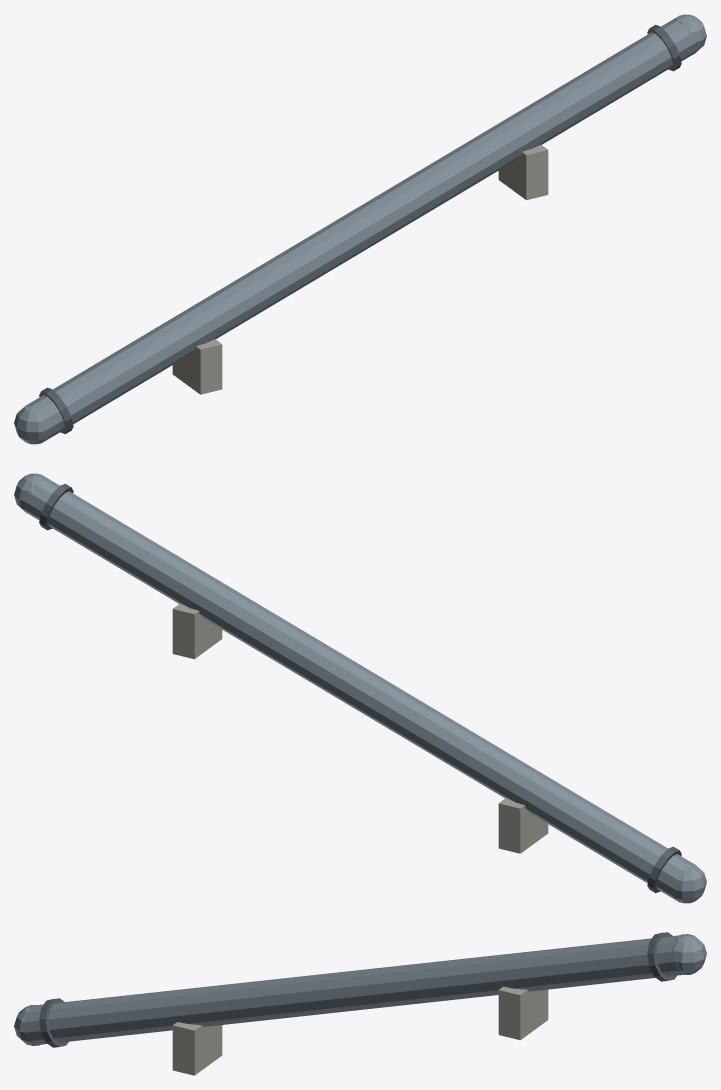
File: potrubi_svah_oci.glb
3 views of the same model, one above another, from view 1: azimuth 30°, elevation 25°; view 2: azimuth 150°, elevation 25°; view 3: azimuth 330°, elevation 25° (orthographic).
Visible parts, largest first — view 1: potrubi_svah_oci; view 2: potrubi_svah_oci; view 3: potrubi_svah_oci.
Boxes of the visible parts, x1,y1,x2,y2 form: potrubi_svah_oci: [14, 14, 706, 444]; potrubi_svah_oci: [14, 473, 706, 903]; potrubi_svah_oci: [14, 932, 706, 1075].
Size of the model in its own units: 15.65 by 5.82 by 1.1.
1 material, 1 textured.
